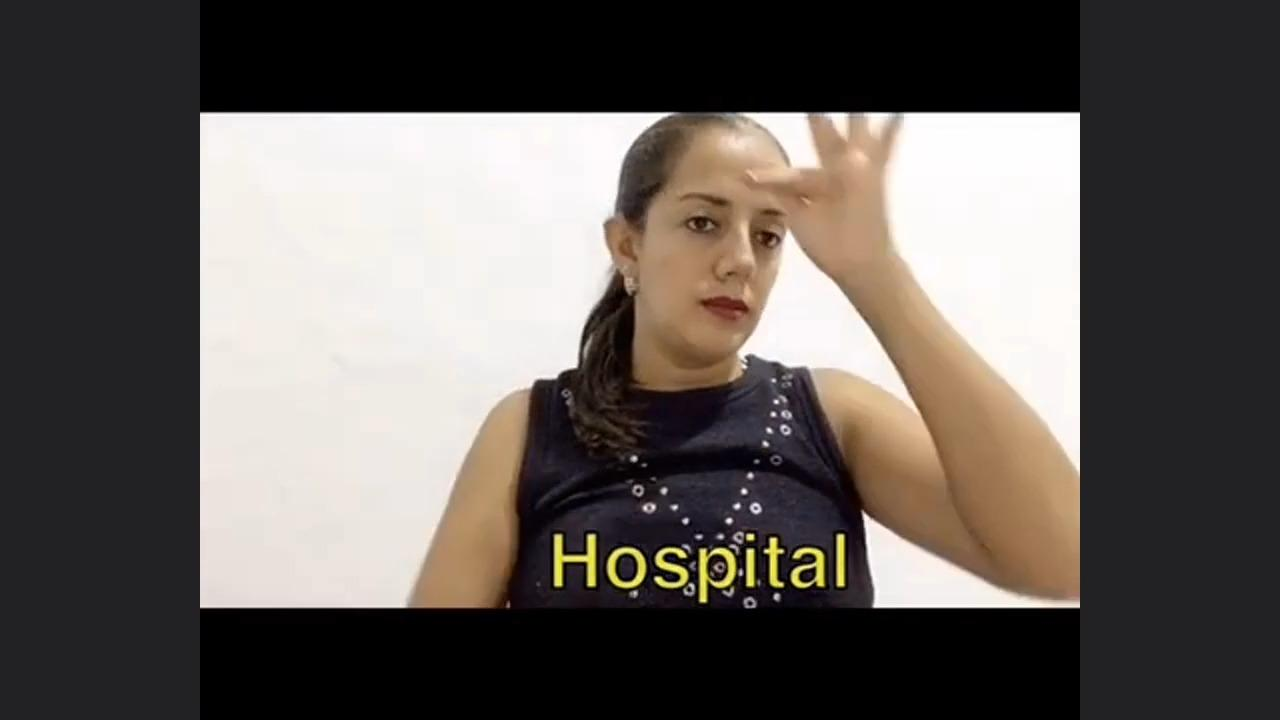Hospital: (436, 122, 1056, 523)
